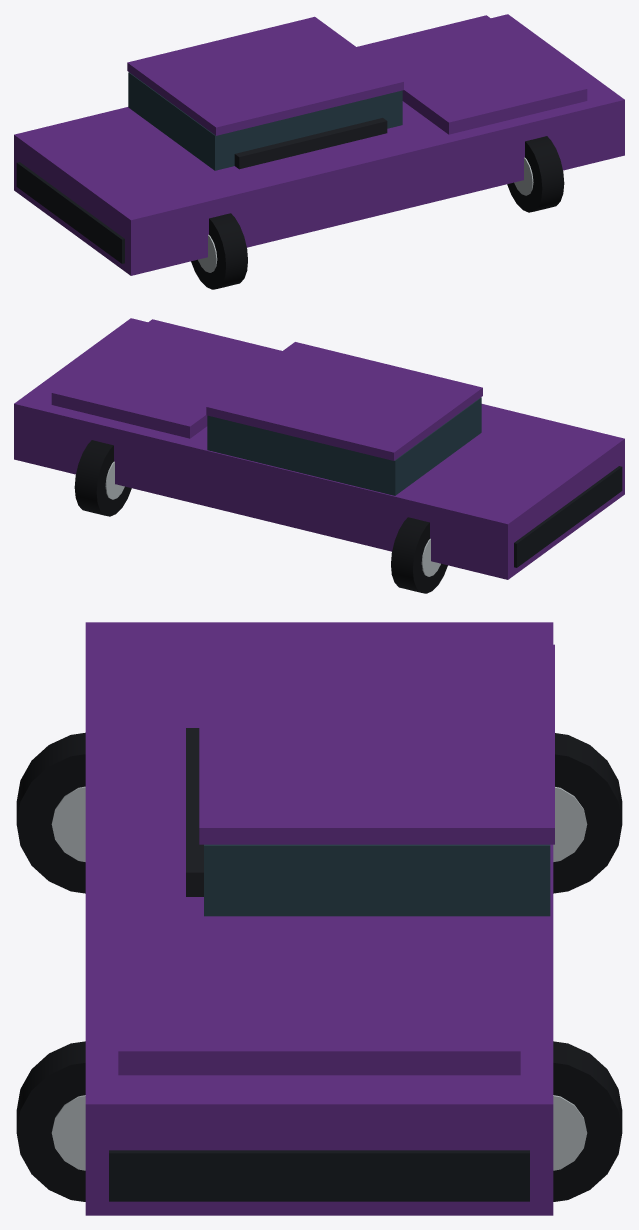
The model's file is lambo_revuelto.glb.
3 renders of one model, top to bottom at view 1: azimuth 30°, elevation 25°; view 2: azimuth 150°, elevation 25°; view 3: azimuth 270°, elevation 25°, orthographic. The views are drawn at different scales.
Visible parts, largest first — view 1: body, roof, hood, cabin, rear_bumper, front_right_wheel, rear_right_wheel, interior; view 2: body, roof, hood, cabin, rear_bumper, front_left_wheel, rear_left_wheel; view 3: body, roof, hood, cabin, front_bumper, rear_right_wheel, front_left_wheel, front_right_wheel, rear_left_wheel, interior.
Part boxes in pixels (bbox=[...]): body: bbox=[14, 14, 624, 275]; roof: bbox=[127, 16, 403, 135]; hood: bbox=[357, 15, 587, 134]; cabin: bbox=[128, 72, 402, 170]; rear_bumper: bbox=[16, 162, 124, 263]; front_right_wheel: bbox=[507, 136, 564, 212]; rear_right_wheel: bbox=[191, 213, 247, 289]; interior: bbox=[234, 118, 387, 169]; body: bbox=[14, 318, 624, 579]; roof: bbox=[206, 342, 482, 460]; hood: bbox=[51, 319, 281, 438]; cabin: bbox=[207, 397, 481, 495]; rear_bumper: bbox=[514, 466, 622, 567]; front_left_wheel: bbox=[74, 440, 131, 516]; rear_left_wheel: bbox=[391, 517, 447, 593]; body: bbox=[85, 622, 553, 1215]; roof: bbox=[199, 644, 554, 844]; hood: bbox=[118, 916, 520, 1075]; cabin: bbox=[204, 844, 550, 916]; front_bumper: bbox=[109, 1150, 529, 1201]; rear_right_wheel: bbox=[16, 732, 85, 893]; front_left_wheel: bbox=[553, 1041, 622, 1201]; front_right_wheel: bbox=[16, 1041, 85, 1201]; rear_left_wheel: bbox=[553, 733, 622, 893]; interior: bbox=[186, 728, 203, 896].
Size of the model in its own units: 5.01 by 1.26 by 2.63.
